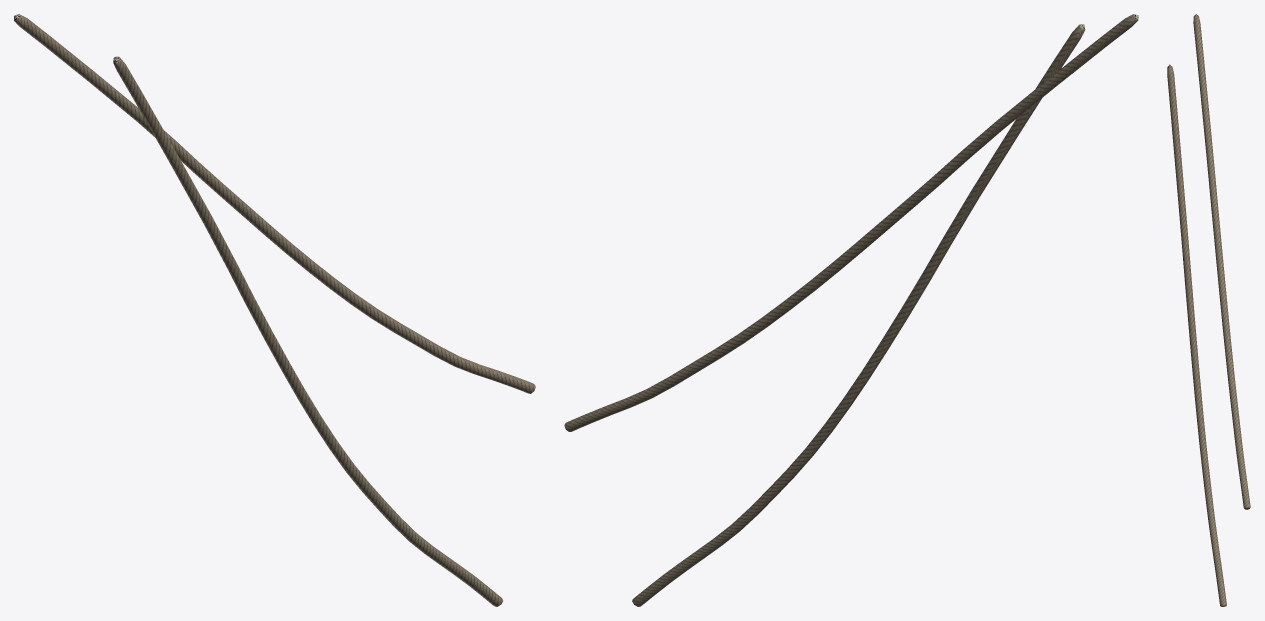
File: ropes.fbx
3 views of the same model, side by side, from view 1: azimuth 30°, elevation 25°; view 2: azimuth 150°, elevation 25°; view 3: azimuth 270°, elevation 25° (orthographic). The views are drawn at different scales.
Parts seen in each view (by area): view 1: pCube270; view 2: pCube270; view 3: pCube270.
Part boxes in pixels (<box>): pCube270: <box>14,14,535,606</box>; pCube270: <box>564,14,1138,606</box>; pCube270: <box>1167,14,1250,606</box>.
Size of the model in its own units: 4.52 by 5.61 by 0.9563.
Materials: 1 (1 with a texture image).
